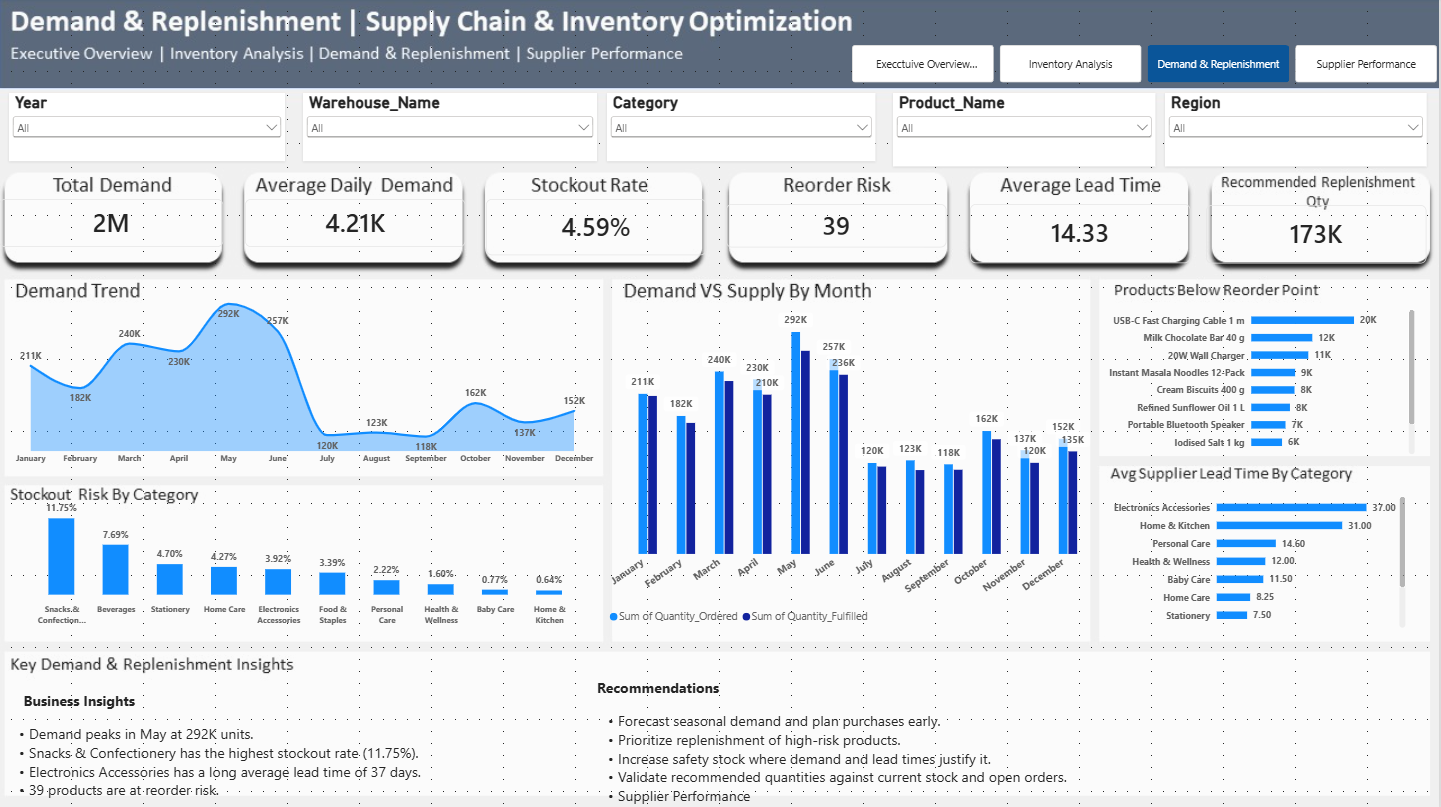

What the dashboard file says about the page in this screenshot:
{"tool":"powerbi","page":{"name":"Demand & Replenishment","canvas":[1920,1080],"ordinal":2},"visuals":[{"type":"card","fields":{"Values":["Sales_Demand.Total Demand"]},"box":[0,267.1,299.1,64],"z":0},{"type":"card","fields":{"Values":["Sales_Demand.Avg Daily Demand"]},"box":[328.3,267.1,293.6,64],"z":1000},{"type":"card","fields":{"Values":["Inventory.Stockout Rate"]},"box":[649.7,267.1,293.6,75.1],"z":2000},{"type":"card","fields":{"Values":["Products.Reorder Risk"]},"box":[969.7,272.7,293.6,58.4],"z":3000},{"type":"card","fields":{"Values":["Avg(Products.Lead_Time_Days)"]},"box":[1295.3,272.7,293.6,79.3],"z":4000},{"type":"card","fields":{"Values":["Sales_Demand.Recommended Replenishment Qty"]},"box":[1609.7,274.1,293.6,77.9],"z":5000},{"type":"areaChart","fields":{"Category":["Sales_Demand.Order_Date.Variation.Date Hierarchy.Month"],"Y":["Sum(Sales_Demand.Quantity_Ordered)"]},"box":[0,375.7,811.1,265.7],"z":6000},{"type":"lineClusteredColumnComboChart","fields":{"Category":["Sales_Demand.Order_Date.Variation.Date Hierarchy.Month"],"Y":["Sum(Sales_Demand.Quantity_Ordered)","Sum(Sales_Demand.Quantity_Fulfilled)"]},"box":[797.2,392.3,677.6,461.9],"z":7000},{"type":"clusteredBarChart","fields":{"Category":["Products.Product_Name"],"Y":["Products.Reorder Gap"]},"box":[1462.3,392.3,441,231],"z":8000},{"type":"clusteredBarChart","fields":{"Category":["Suppliers.Supplier_Category"],"Y":["Avg(Products.Lead_Time_Days)"]},"box":[1462.3,641.4,428.5,212.9],"z":9000},{"type":"clusteredColumnChart","fields":{"Category":["Products.Category"],"Y":["Inventory.Stockout Risk"]},"box":[0,641.4,797.2,212.9],"z":10000},{"type":"slicer","fields":{"Values":["Sales_Demand.Order_Date.Variation.Date Hierarchy.Year"]},"box":[12.8,124.8,368,91.2],"z":11000},{"type":"slicer","fields":{"Values":["Warehouses.Warehouse_Name"]},"box":[404.8,124.8,392,91.2],"z":12000},{"type":"slicer","fields":{"Values":["Products.Category"]},"box":[811.2,124.8,358.4,91.2],"z":13000},{"type":"slicer","fields":{"Values":["Products.Product_Name"]},"box":[1192,124.8,350.4,97.6],"z":14000},{"type":"slicer","fields":{"Values":["Warehouses.Region"]},"box":[1555.2,124.8,348.8,97.6],"z":15000},{"type":"pageNavigator","box":[1136.7,61.2,783.3,50.1],"z":16000},{"type":"textbox","box":[12.5,922.4,649.7,157.2],"z":16001},{"type":"textbox","box":[797.2,905.7,677.6,173.9],"z":16002}]}

Visuals, with their boxes in screenshot pixels (x1, y1, x2, y2), scaled from the page's 1920x1080 canvas onto the 1441x807 screenshot:
card - Sales_Demand.Total Demand: select_region(0, 200, 224, 247)
card - Sales_Demand.Avg Daily Demand: select_region(246, 200, 467, 247)
card - Inventory.Stockout Rate: select_region(488, 200, 708, 256)
card - Products.Reorder Risk: select_region(728, 204, 948, 247)
card - Avg(Products.Lead_Time_Days): select_region(972, 204, 1193, 263)
card - Sales_Demand.Recommended Replenishment Qty: select_region(1208, 205, 1428, 263)
areaChart - Sales_Demand.Order_Date.Variation.Date Hierarchy.Month x Sum(Sales_Demand.Quantity_Ordered): select_region(0, 281, 609, 479)
lineClusteredColumnComboChart - Sales_Demand.Order_Date.Variation.Date Hierarchy.Month x Sum(Sales_Demand.Quantity_Ordered): select_region(598, 293, 1107, 638)
clusteredBarChart - Products.Product_Name x Products.Reorder Gap: select_region(1097, 293, 1428, 466)
clusteredBarChart - Suppliers.Supplier_Category x Avg(Products.Lead_Time_Days): select_region(1097, 479, 1419, 638)
clusteredColumnChart - Products.Category x Inventory.Stockout Risk: select_region(0, 479, 598, 638)
slicer - Sales_Demand.Order_Date.Variation.Date Hierarchy.Year: select_region(10, 93, 286, 161)
slicer - Warehouses.Warehouse_Name: select_region(304, 93, 598, 161)
slicer - Products.Category: select_region(609, 93, 878, 161)
slicer - Products.Product_Name: select_region(895, 93, 1158, 166)
slicer - Warehouses.Region: select_region(1167, 93, 1429, 166)
pageNavigator: select_region(853, 46, 1440, 83)
textbox: select_region(9, 689, 497, 806)
textbox: select_region(598, 677, 1107, 806)
